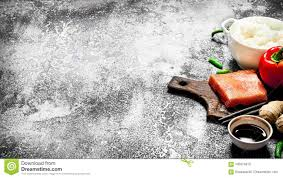Tomato: (259, 45, 283, 84)
